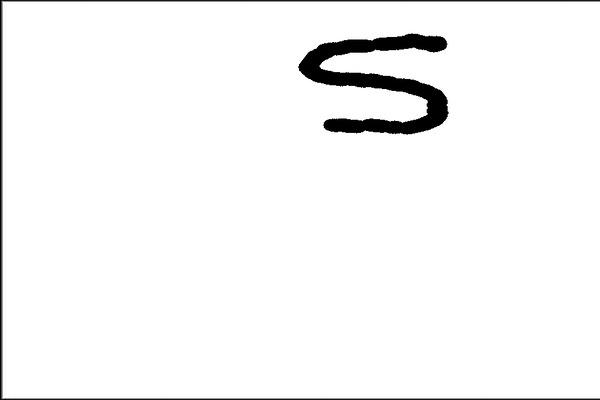S: (291, 29, 455, 142)
